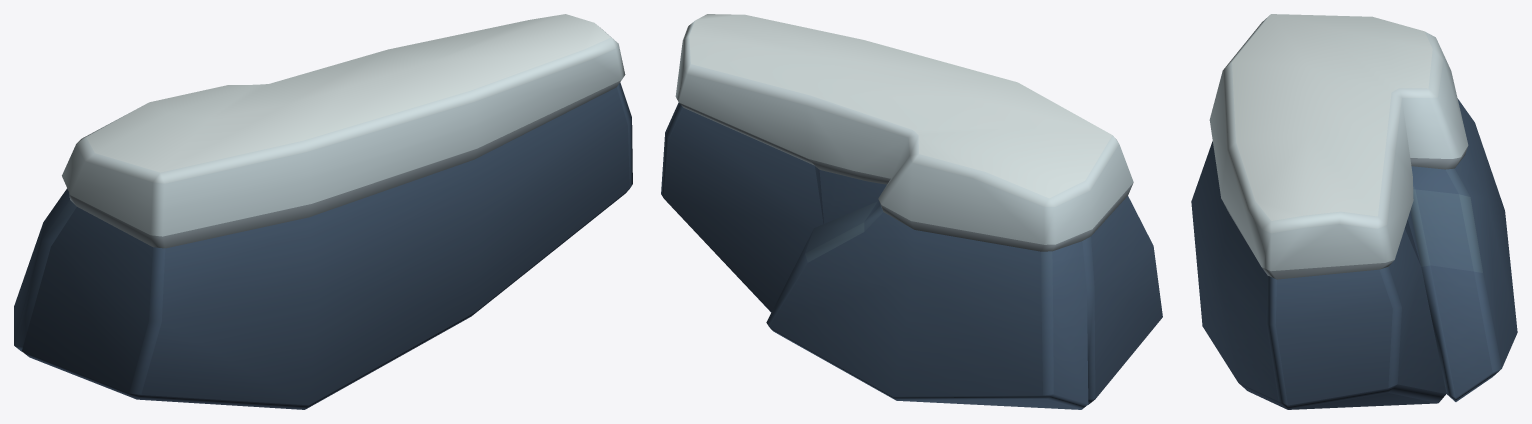
The model's file is rock_snow_026.fbx.
3 renders of one model, left to right at view 1: azimuth 30°, elevation 25°; view 2: azimuth 150°, elevation 25°; view 3: azimuth 270°, elevation 25°, orthographic. The views are drawn at different scales.
Visible parts, largest first — view 1: rock_snow_026; view 2: rock_snow_026; view 3: rock_snow_026.
Part boxes in pixels (x1,y1,x2,y2): rock_snow_026: (14, 14, 632, 409); rock_snow_026: (661, 14, 1162, 409); rock_snow_026: (1191, 14, 1517, 409).
Size of the model in its own units: 744 by 389 by 367.
Materials: 1 (1 with a texture image).
